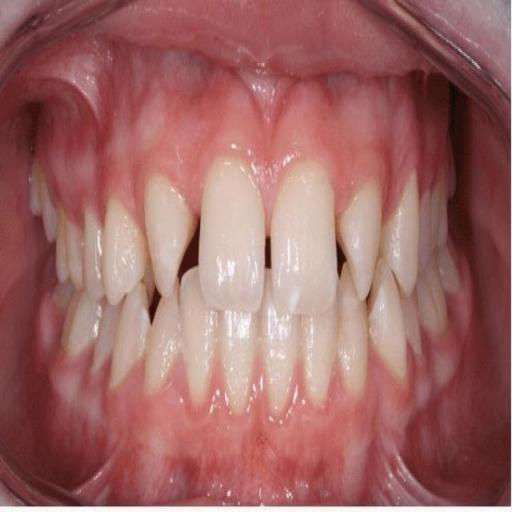spaced: (190, 196, 202, 250), (262, 224, 276, 266)
